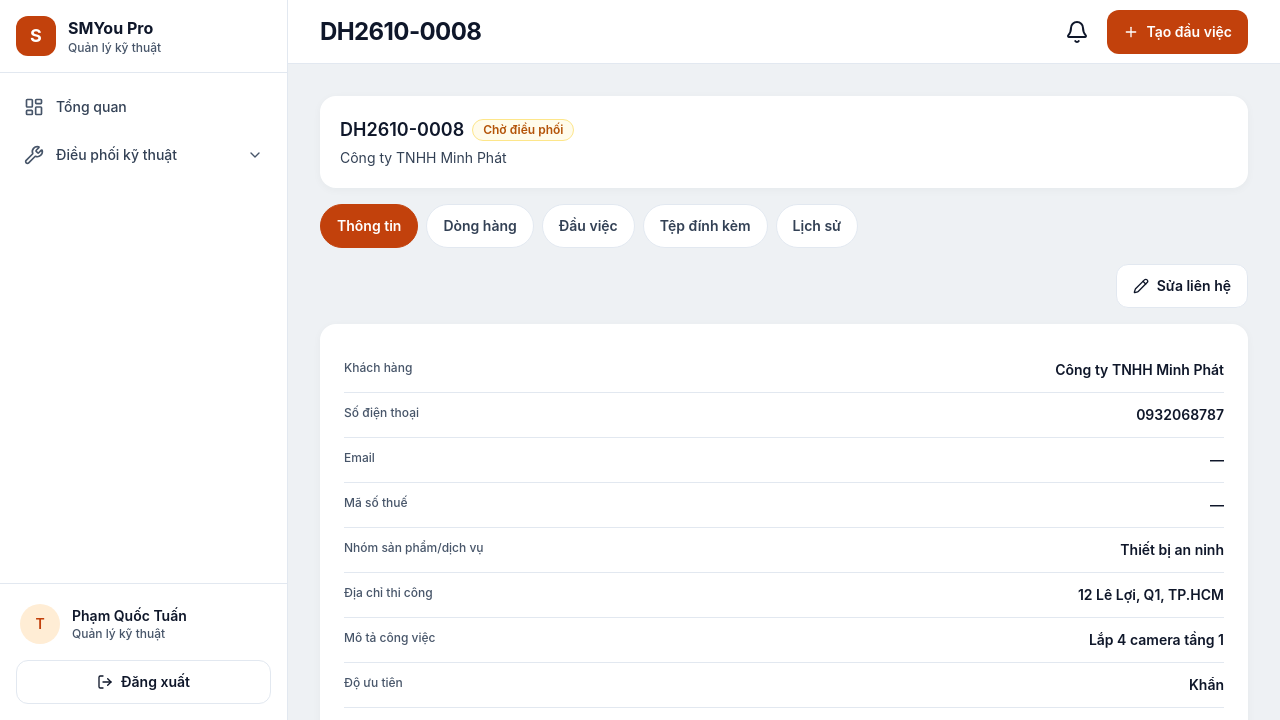
Test: Tab Đầu việc trên trang chi tiết đơn › AC-DSP-031 nút Tạo đầu việc — Tuấn (task.manage), đơn PENDING_DISPATCH → hiện: true
Expected: the heading "DH2610-0008" is shown, x1=320 y1=16 x2=481 y2=48
Step 1. Click the tab "Đầu việc" → coordinates (588, 226), box x1=542 y1=204 x2=635 y2=248
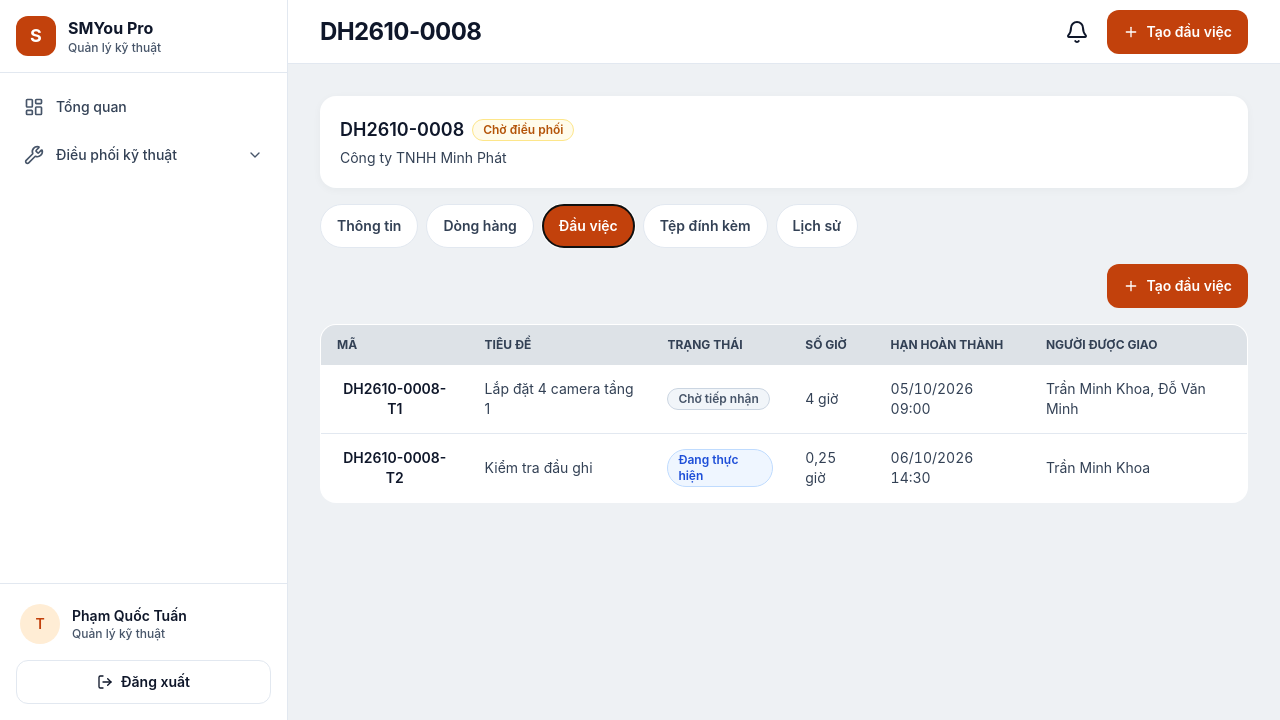
Result: the button "Tạo đầu việc" is shown at x1=1106 y1=264 x2=1248 y2=308
